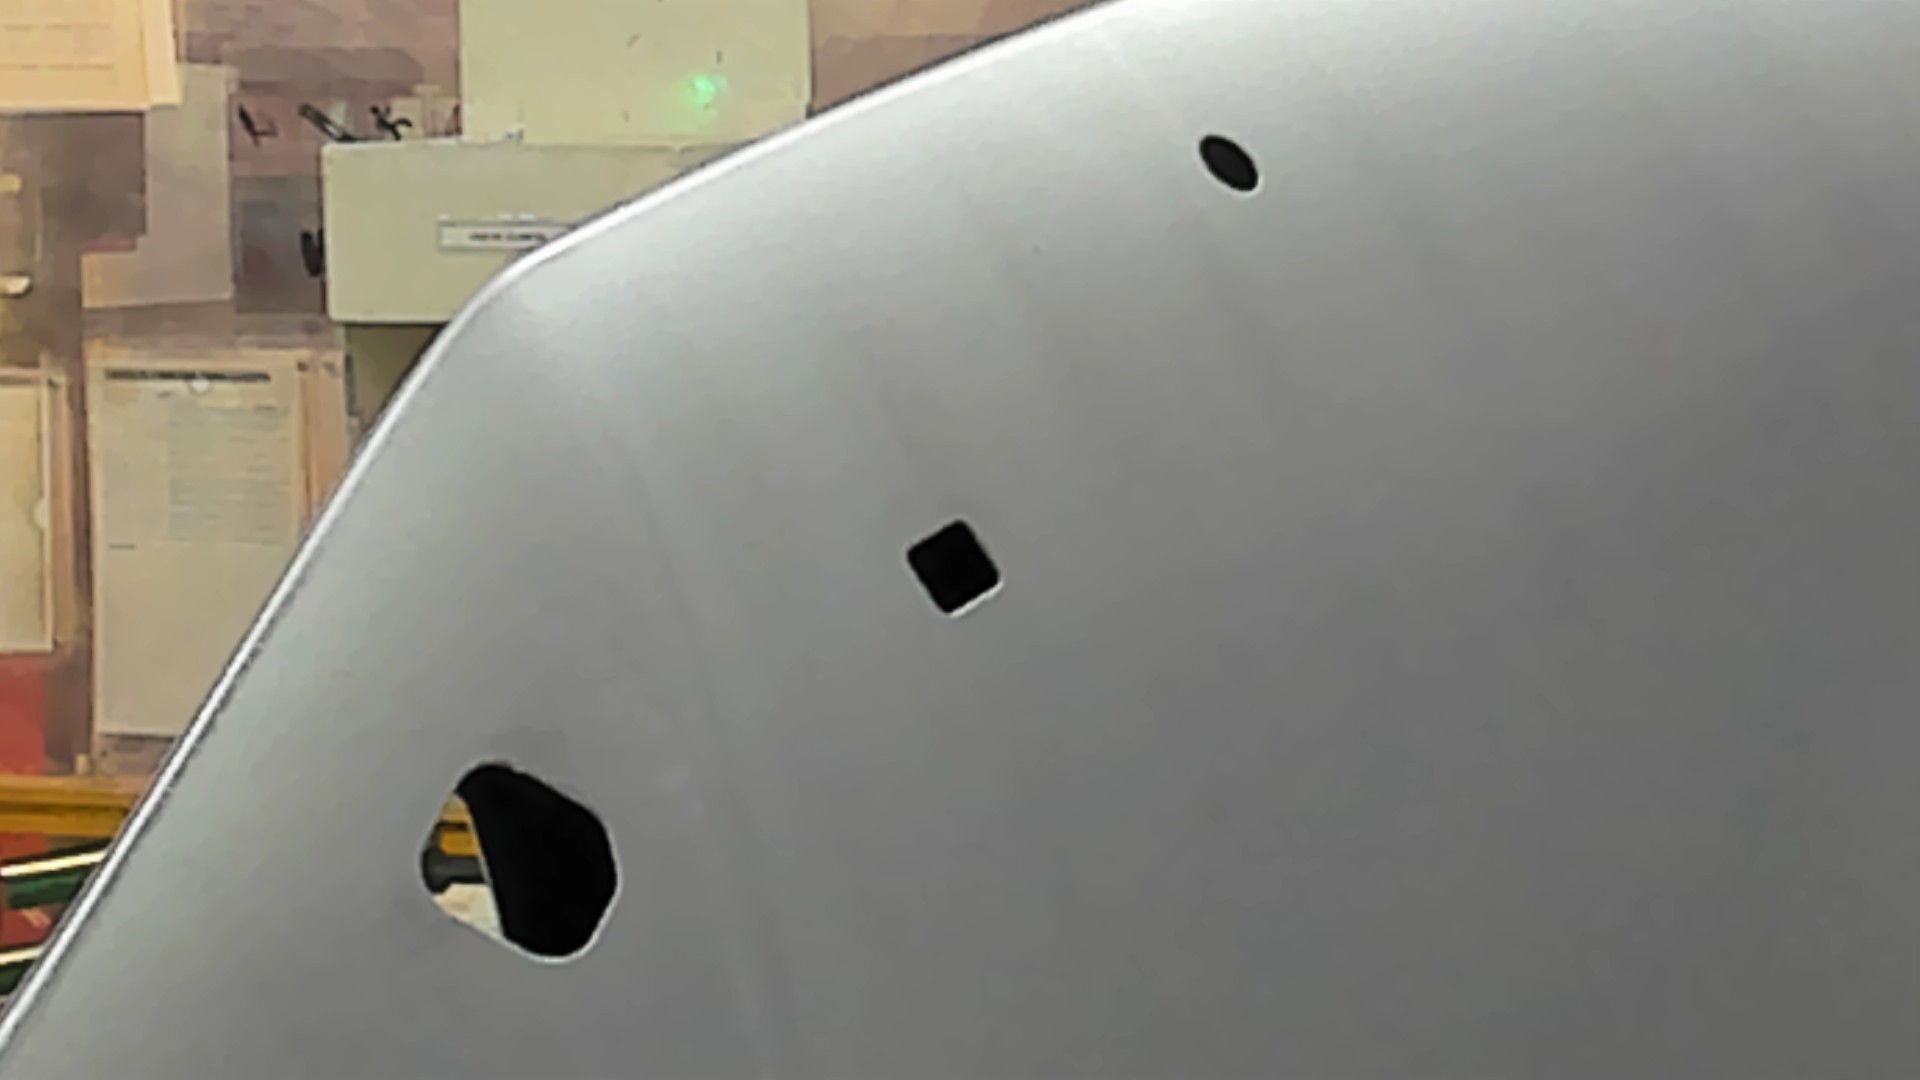chico: (1180, 113, 1288, 214)
grande: (382, 742, 642, 982)
mediano: (882, 504, 1039, 645)
